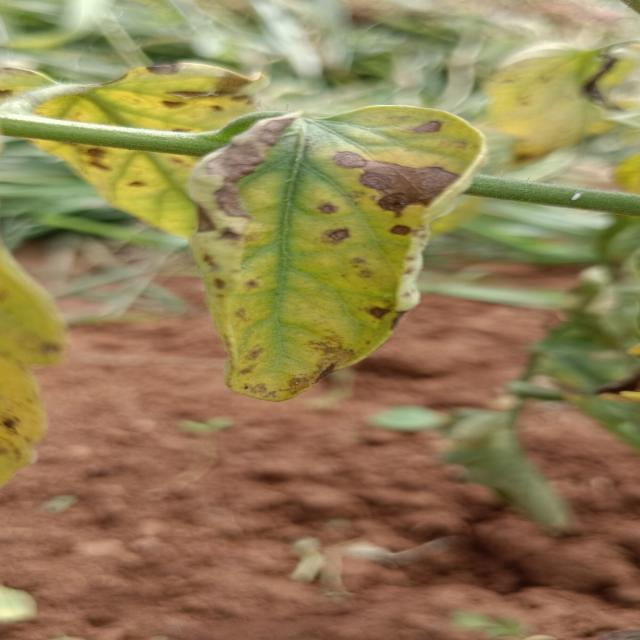tomato_early blight: (185, 99, 473, 402), (5, 55, 294, 258), (468, 38, 640, 172)
